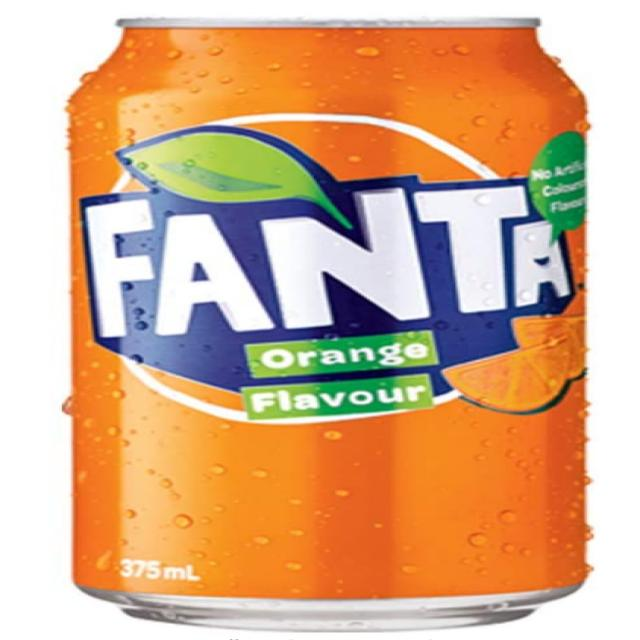fanta: (67, 16, 604, 625)
